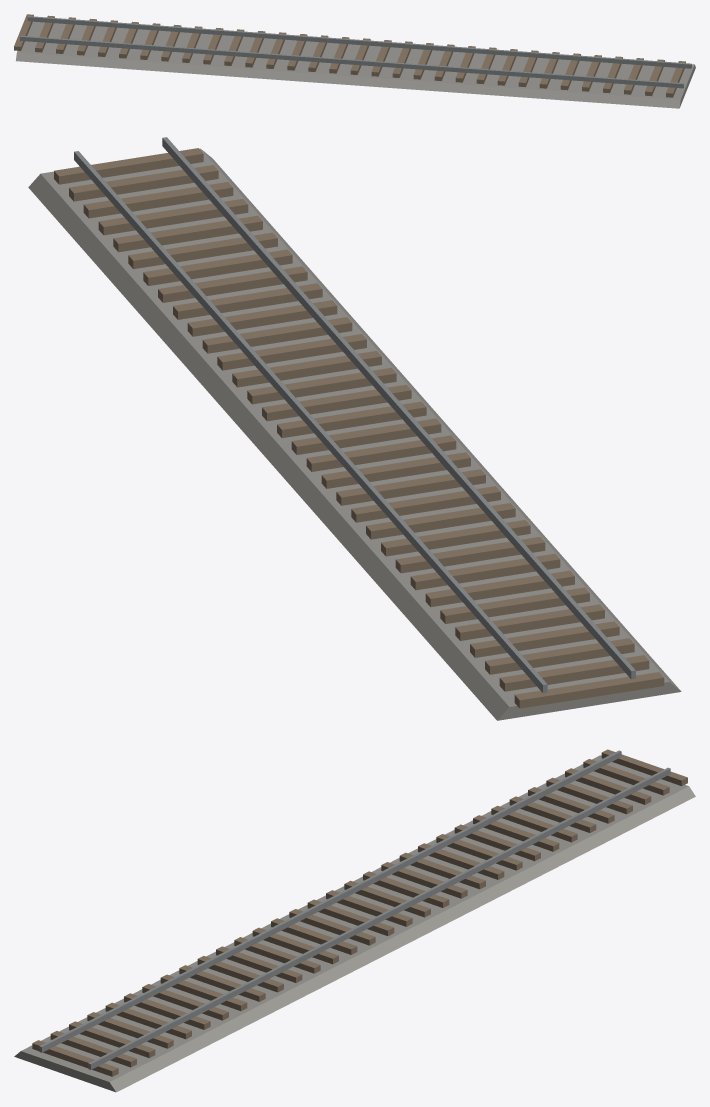
The model's file is rail_01220.glb.
3 renders of one model, top to bottom at view 1: azimuth 30°, elevation 25°; view 2: azimuth 150°, elevation 25°; view 3: azimuth 270°, elevation 25°, orthographic. The views are drawn at different scales.
Parts seen in each view (by area): view 1: Ballast, Sleepers, Rails; view 2: Sleepers, Ballast, Rails; view 3: Sleepers, Ballast, Rails.
Part boxes in pixels (x1=…): Ballast: x1=16, y1=21, x2=695, y2=108; Sleepers: x1=14, y1=14, x2=685, y2=97; Rails: x1=20, y1=16, x2=691, y2=88; Sleepers: x1=54, y1=148, x2=664, y2=708; Ballast: x1=28, y1=148, x2=681, y2=720; Rails: x1=74, y1=137, x2=635, y2=693; Sleepers: x1=32, y1=749, x2=687, y2=1076; Ballast: x1=14, y1=755, x2=695, y2=1092; Rails: x1=39, y1=750, x2=670, y2=1069.
Size of the model in its own units: 17.72 by 0.48 by 15.39.
